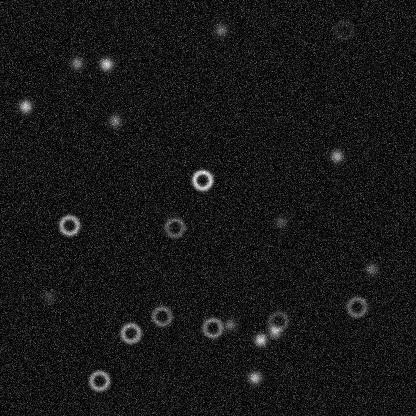Ring: (266, 309, 290, 333), (200, 315, 224, 339), (149, 304, 173, 328), (87, 368, 111, 392), (344, 294, 368, 318), (331, 17, 355, 41), (118, 321, 142, 345), (162, 215, 186, 239), (57, 213, 81, 237), (190, 167, 214, 191)
Spot: (246, 369, 262, 385), (272, 213, 288, 229), (212, 21, 228, 37), (40, 288, 56, 304), (68, 55, 84, 71), (98, 56, 114, 72), (252, 331, 268, 347), (17, 98, 33, 114), (363, 260, 379, 276), (221, 316, 237, 332), (328, 148, 344, 164), (106, 112, 122, 128), (266, 323, 282, 339)
